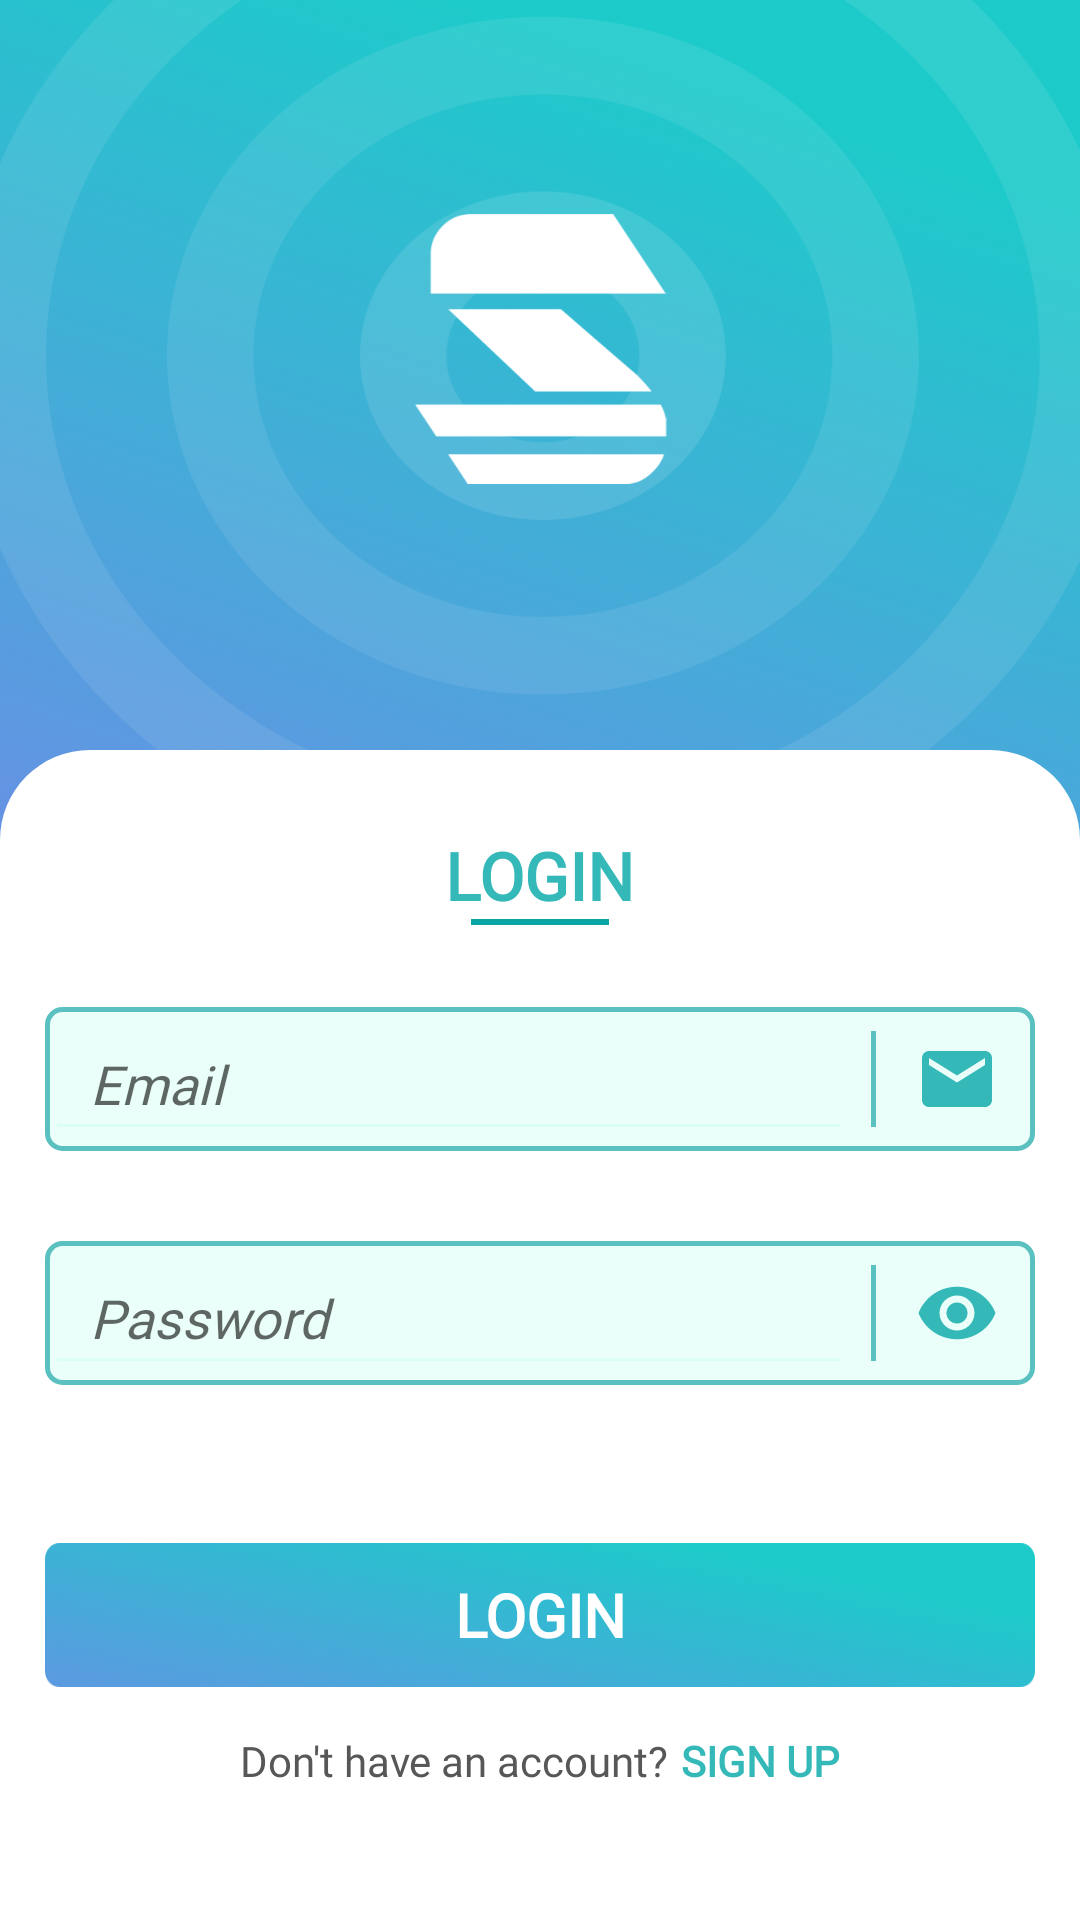

Icons on this 1080 × 1920 Android screen, each with the point to tap as [x,y]:
markunread: [957,1079]
